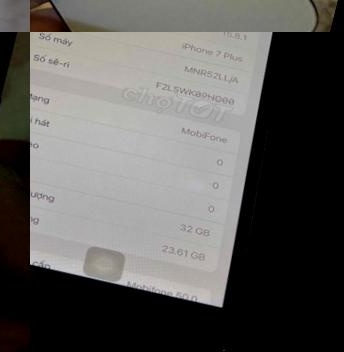scratch: (128, 0, 316, 32)
